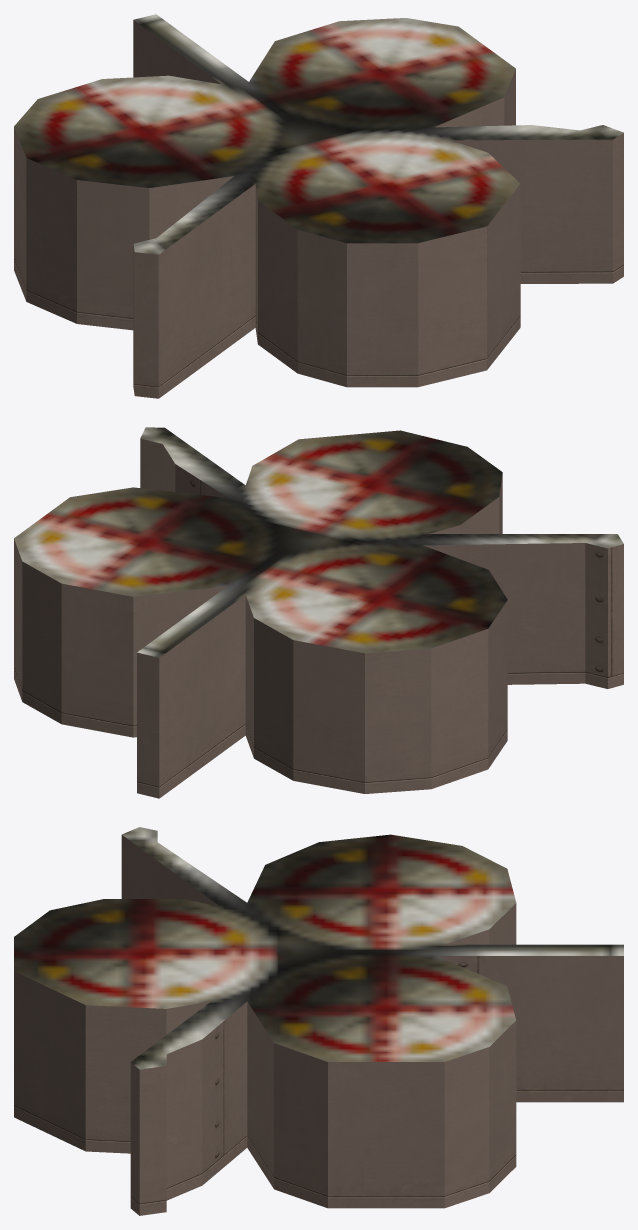
File: fuel_tank_medium_21.glb
3 views of the same model, one above another, from view 1: azimuth 30°, elevation 25°; view 2: azimuth 150°, elevation 25°; view 3: azimuth 270°, elevation 25° (orthographic). The views are drawn at different scales.
Parts seen in each view (by area): view 1: buildings/saxarba/fuel_tanks/fuel_tank_medium_21; view 2: buildings/saxarba/fuel_tanks/fuel_tank_medium_21; view 3: buildings/saxarba/fuel_tanks/fuel_tank_medium_21.
Boxes of the visible parts, x1=… form: buildings/saxarba/fuel_tanks/fuel_tank_medium_21: x1=14, y1=14, x2=623, y2=398; buildings/saxarba/fuel_tanks/fuel_tank_medium_21: x1=14, y1=427, x2=623, y2=798; buildings/saxarba/fuel_tanks/fuel_tank_medium_21: x1=14, y1=827, x2=623, y2=1215.
Bounding box in the file's own units: 64 × 18 × 68.
